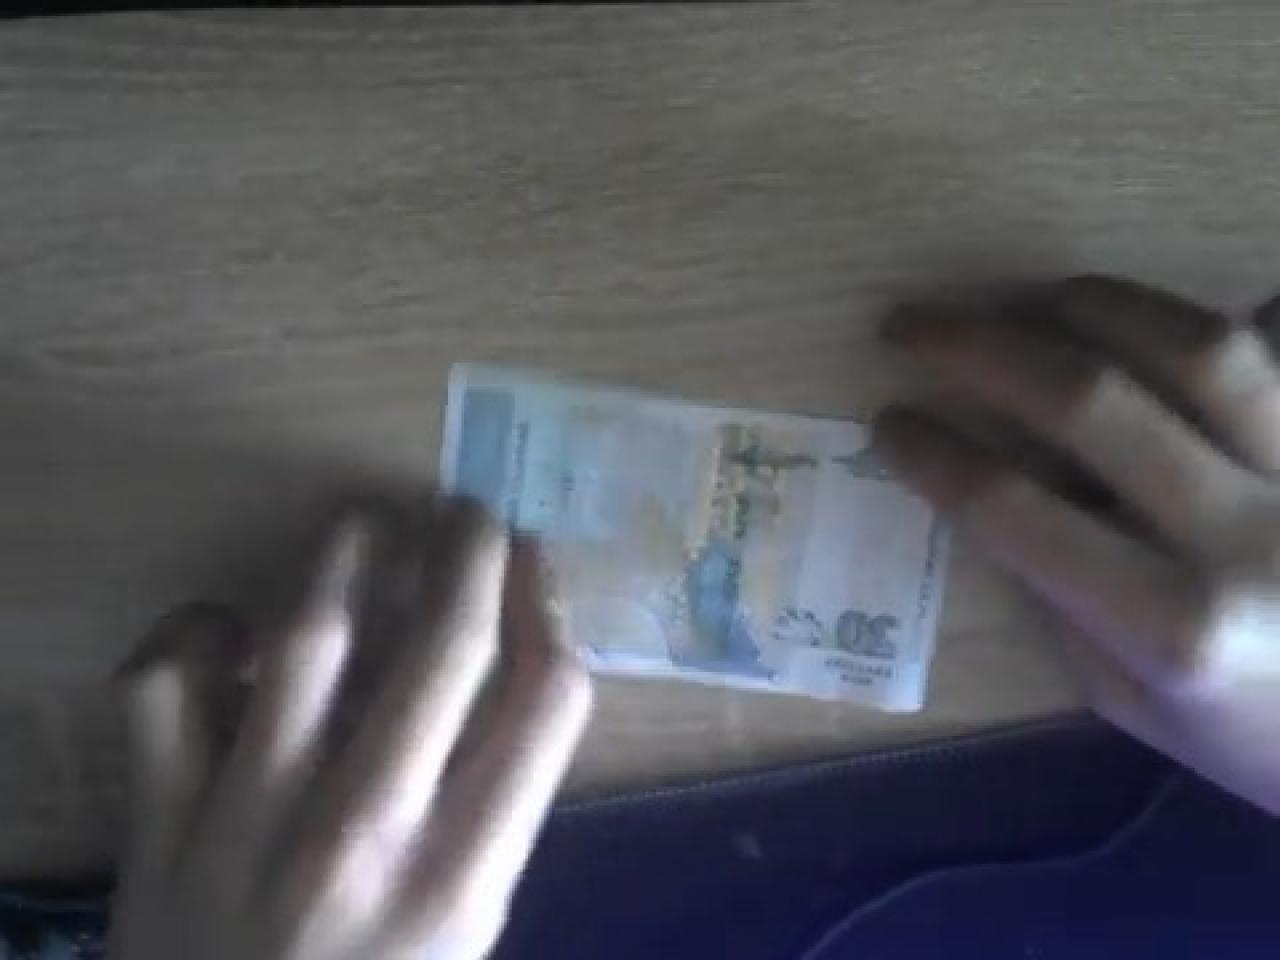20leva: (432, 360, 957, 720)
